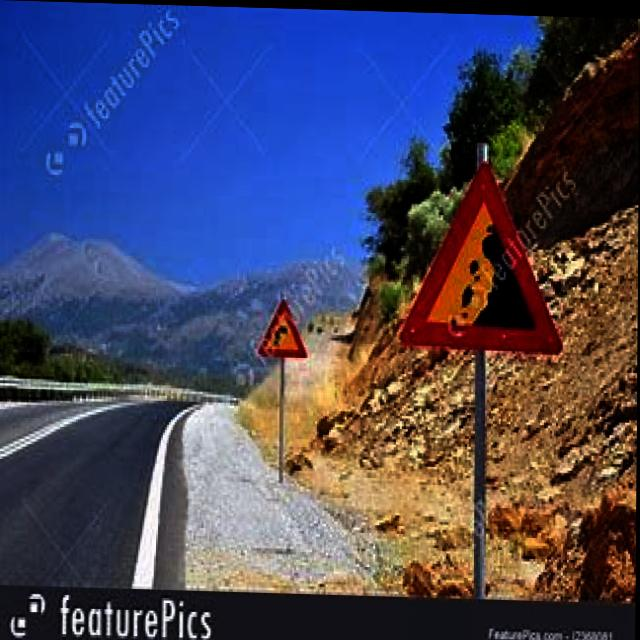FALLING_ROCKS: (404, 159, 552, 352)
